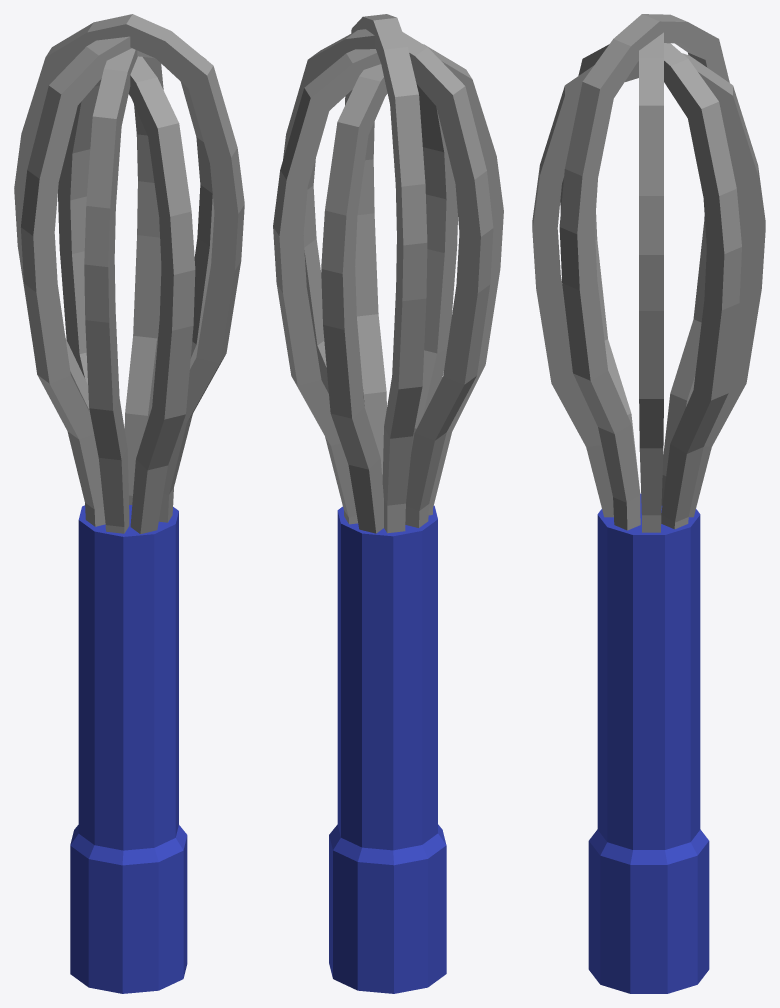
File: Batedor.fbx
3 views of the same model, side by side, from view 1: azimuth 30°, elevation 25°; view 2: azimuth 150°, elevation 25°; view 3: azimuth 270°, elevation 25° (orthographic).
Parts seen in each view (by area): view 1: Batedor; view 2: Batedor; view 3: Batedor.
Part boxes in pixels (box(x1,y1,x2,y2)): Batedor: box(14, 14, 244, 993); Batedor: box(273, 14, 503, 993); Batedor: box(532, 14, 765, 993).
Bounding box in the file's own units: 6.4 × 28.87 × 6.4.
Materials: 1 (1 with a texture image).
